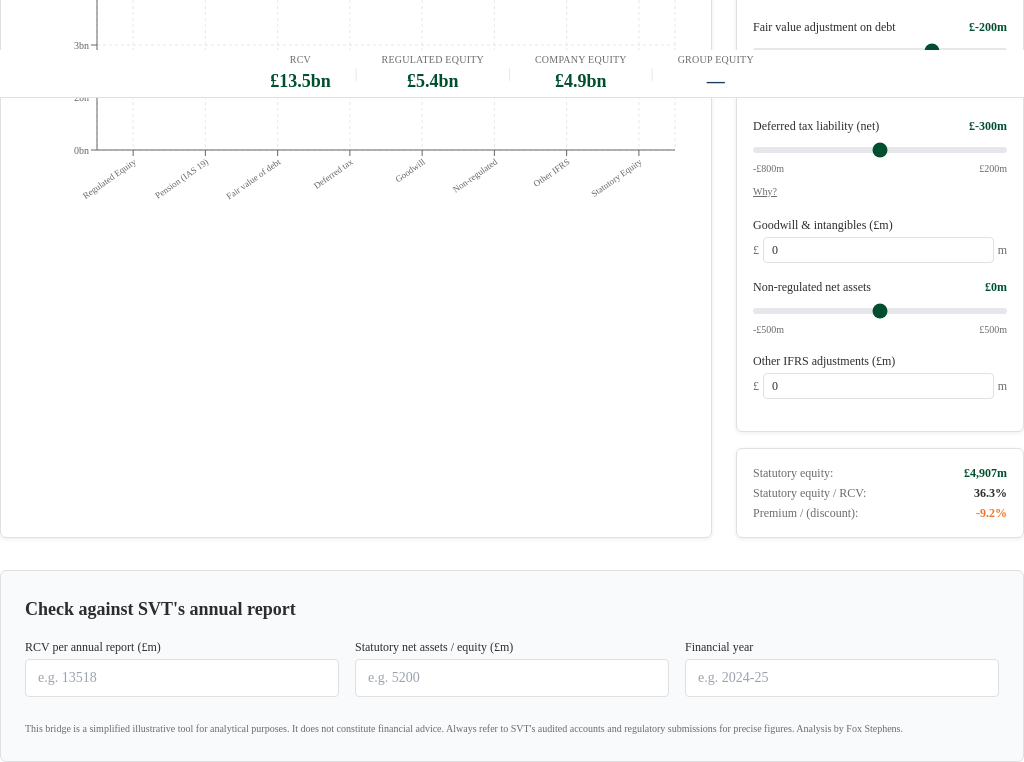
EquityBridge › Stage 3 comparison table appears when all three inputs filled
The width and height of the screenshot is (1024, 762).
(page scrolled)
Expected: the heading "Check against SVT's annual report" is shown, [25, 599, 296, 619]
Type "13518" into the number field with placeholder "e.g. 13518" at (182, 678), box [25, 659, 339, 697]
(page scrolled)
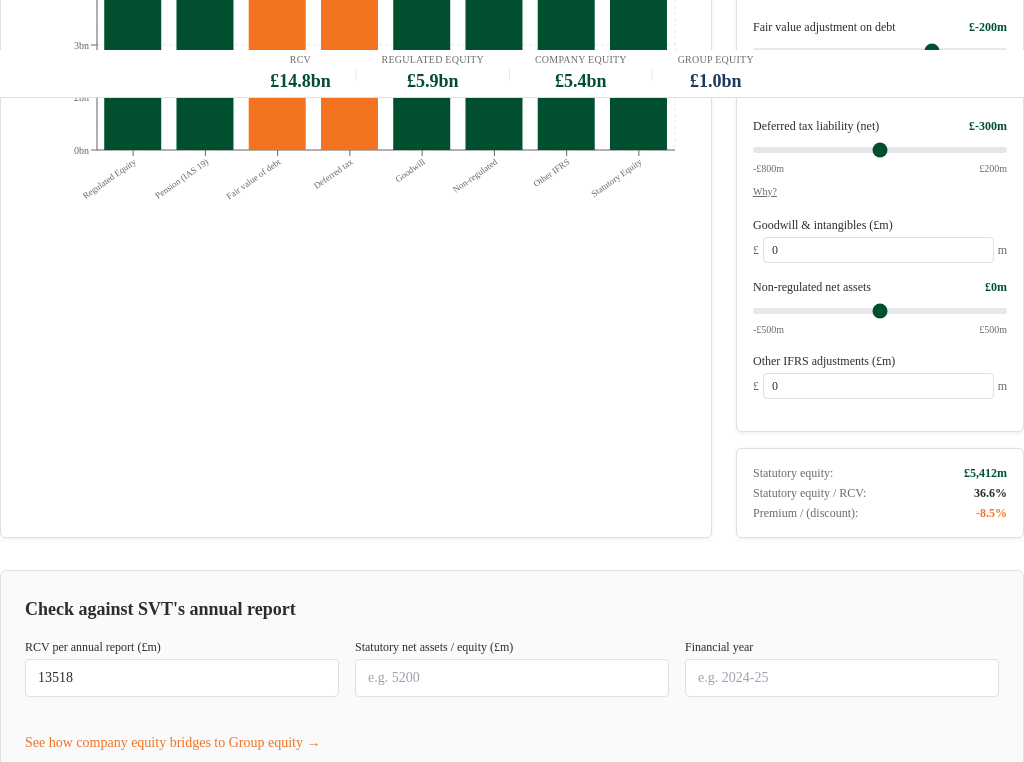
Type "5200" into the number field with placeholder "e.g. 5200" at (512, 678), box [355, 659, 669, 697]
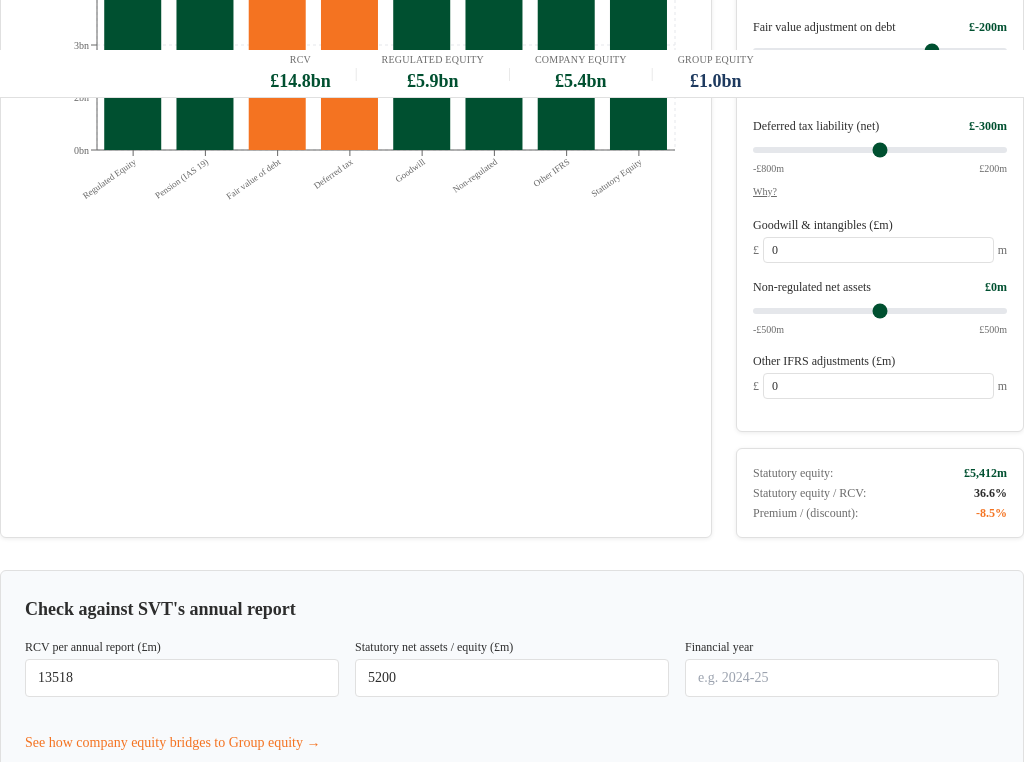
Type "2024-25" into the field with placeholder "e.g. 2024-25" at (842, 678), box [685, 659, 999, 697]
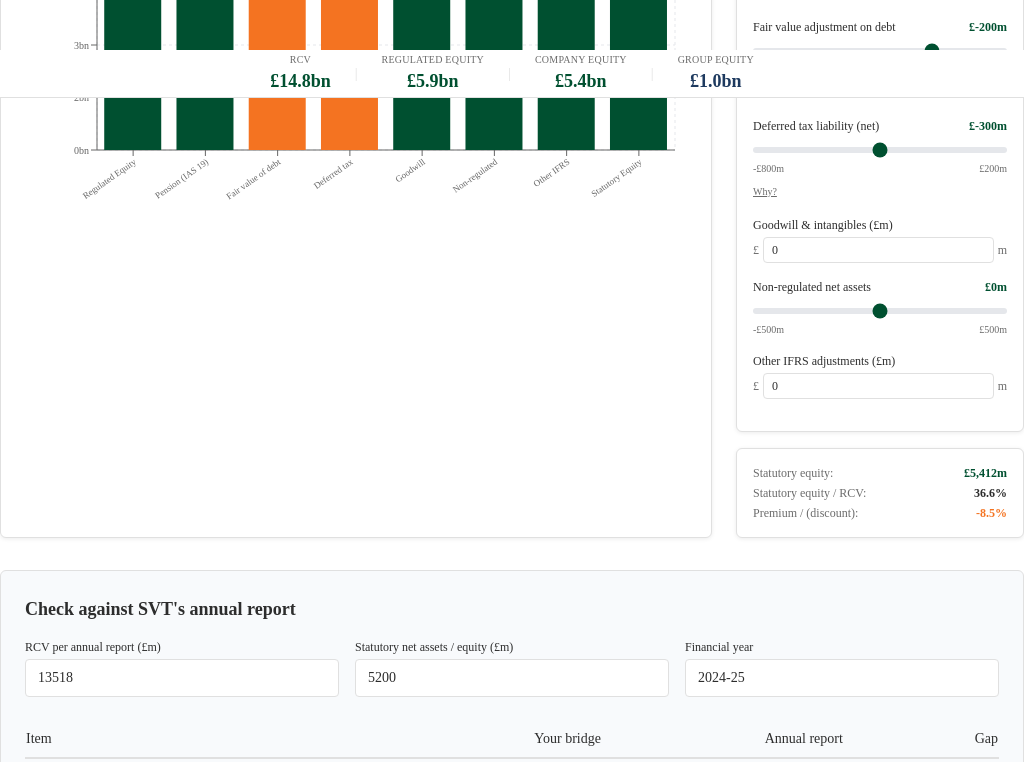
Expected: the column heading "Your bridge" is shown, [395, 721, 602, 758]
Expected: the column heading "Annual report" is shown, [602, 721, 844, 758]
